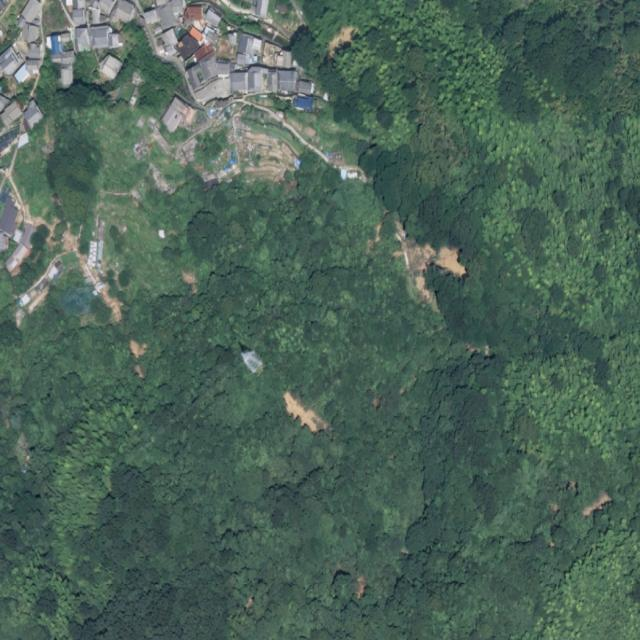landslide: (395, 222, 467, 312)
